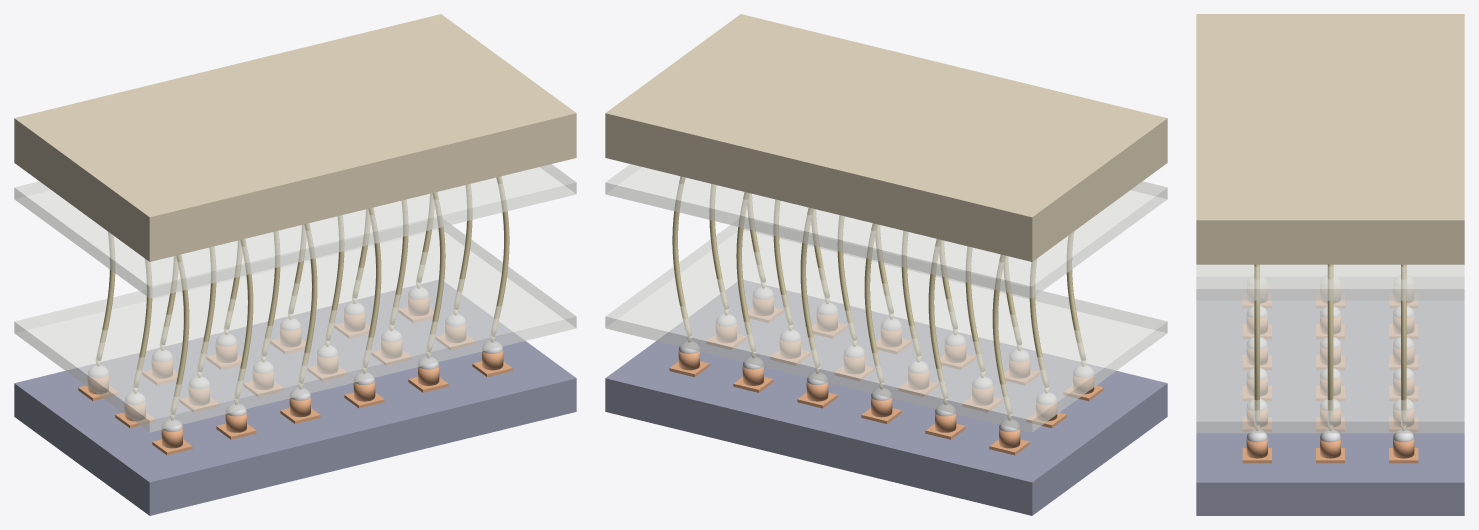
Rendered from probe_contact.glb.
The picture shows the model from 3 angles, left to right: view 1: azimuth 30°, elevation 25°; view 2: azimuth 150°, elevation 25°; view 3: azimuth 270°, elevation 25°; orthographic projection.
Visible parts, largest first — view 1: st_body, guide_lower, wafer_slice, guide_upper, probe_beam_0_0, probe_beam_1_0, probe_beam_2_0, probe_beam_3_0, probe_beam_4_0, probe_beam_5_0, probe_beam_0_1, probe_beam_0_2 (+5 smaller); view 2: st_body, guide_lower, wafer_slice, guide_upper, probe_beam_0_2, probe_beam_1_2, probe_beam_2_2, probe_beam_3_2, probe_beam_4_2, probe_beam_5_2, probe_beam_0_1, probe_beam_0_0 (+5 smaller); view 3: st_body, wafer_slice, guide_lower, guide_upper, probe_beam_5_1, probe_beam_5_0, probe_beam_5_2, bump_pillar_5_0, bump_pillar_5_2, bump_pillar_5_1.
Boxes of the visible parts, left/top/right/bottom form: st_body: left=14, top=14, right=576, bottom=261; guide_lower: left=14, top=219, right=576, bottom=432; wafer_slice: left=14, top=280, right=576, bottom=515; guide_upper: left=14, top=164, right=576, bottom=298; probe_beam_0_0: left=170, top=254, right=189, bottom=414; probe_beam_1_0: left=234, top=239, right=253, bottom=399; probe_beam_2_0: left=298, top=223, right=317, bottom=383; probe_beam_3_0: left=362, top=207, right=381, bottom=367; probe_beam_4_0: left=426, top=192, right=445, bottom=352; probe_beam_5_0: left=490, top=176, right=509, bottom=336; probe_beam_0_1: left=133, top=259, right=152, bottom=387; probe_beam_0_2: left=96, top=232, right=115, bottom=360; st_body: left=605, top=14, right=1167, bottom=261; guide_lower: left=605, top=219, right=1167, bottom=432; wafer_slice: left=605, top=280, right=1167, bottom=515; guide_upper: left=605, top=164, right=1167, bottom=298; probe_beam_0_2: left=992, top=254, right=1011, bottom=414; probe_beam_1_2: left=928, top=239, right=947, bottom=399; probe_beam_2_2: left=864, top=223, right=883, bottom=383; probe_beam_3_2: left=800, top=207, right=819, bottom=367; probe_beam_4_2: left=736, top=192, right=755, bottom=352; probe_beam_5_2: left=672, top=176, right=691, bottom=336; probe_beam_0_1: left=1029, top=259, right=1048, bottom=387; probe_beam_0_0: left=1066, top=232, right=1085, bottom=360; st_body: left=1196, top=14, right=1464, bottom=264; wafer_slice: left=1196, top=300, right=1464, bottom=515; guide_lower: left=1196, top=265, right=1464, bottom=433; guide_upper: left=1196, top=264, right=1464, bottom=300; probe_beam_5_1: left=1327, top=264, right=1333, bottom=425; probe_beam_5_0: left=1254, top=264, right=1259, bottom=425; probe_beam_5_2: left=1401, top=264, right=1406, bottom=425; bump_pillar_5_0: left=1246, top=438, right=1267, bottom=458; bump_pillar_5_2: left=1393, top=438, right=1414, bottom=458; bump_pillar_5_1: left=1320, top=439, right=1340, bottom=458.
Bounding box in the file's own units: 6 × 4.01 × 3.3.
